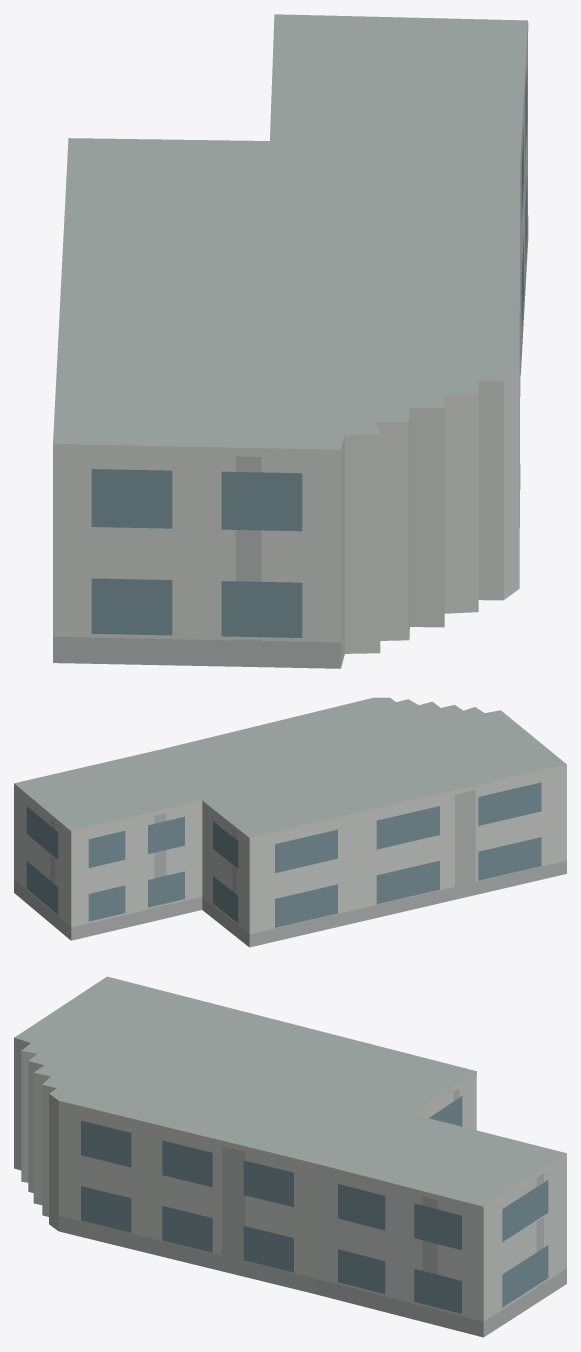
The model's file is survey-upis-32968791.glb.
The picture shows the model from 3 angles, top to bottom: view 1: azimuth 30°, elevation 25°; view 2: azimuth 150°, elevation 25°; view 3: azimuth 270°, elevation 25°; orthographic projection. The views are drawn at different scales.
Visible parts, largest first — view 1: survey-upis-32968791.tmp; view 2: survey-upis-32968791.tmp; view 3: survey-upis-32968791.tmp.
Part boxes in pixels (left/top/right/bottom): survey-upis-32968791.tmp: left=53, top=14, right=528, bottom=668; survey-upis-32968791.tmp: left=14, top=697, right=566, bottom=947; survey-upis-32968791.tmp: left=14, top=976, right=566, bottom=1337.
Bounding box in the file's own units: 23.06 × 6.1 × 23.39.
